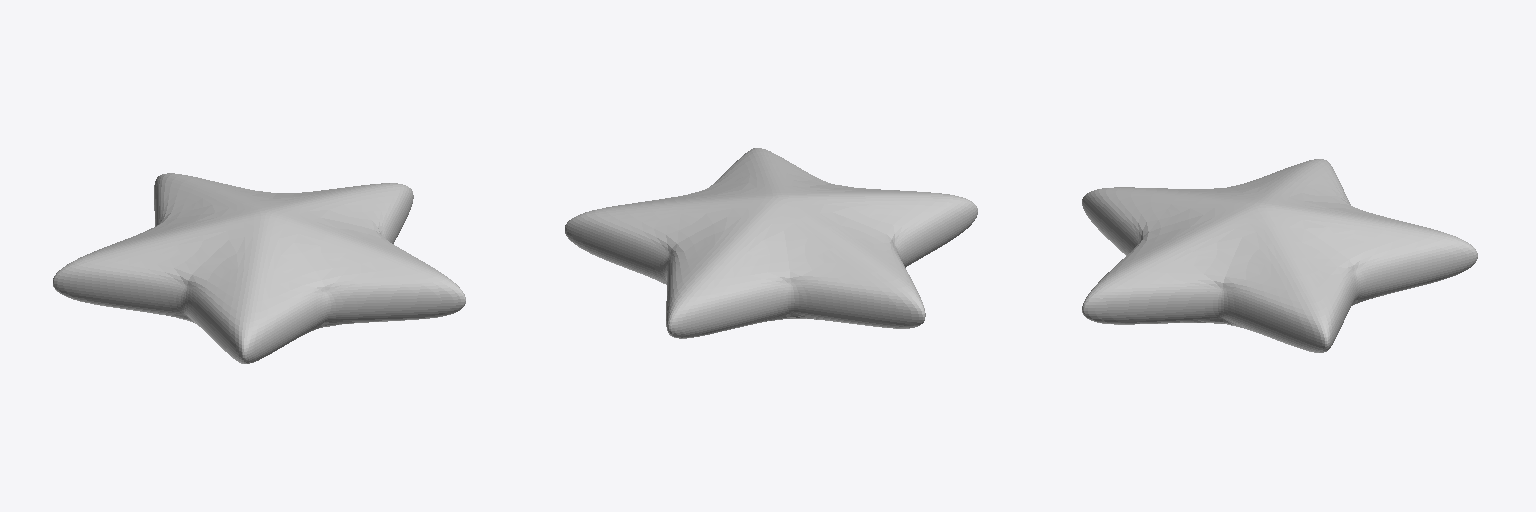
The model's file is starwork.obj.
3 views of the same model, side by side, from view 1: azimuth 30°, elevation 25°; view 2: azimuth 150°, elevation 25°; view 3: azimuth 270°, elevation 25° (orthographic).
Parts seen in each view (by area): view 1: Cylinder; view 2: Cylinder; view 3: Cylinder.
Part boxes in pixels (x1,y1,x2,y2): Cylinder: (53, 173, 465, 363); Cylinder: (565, 148, 977, 338); Cylinder: (1082, 159, 1477, 352).
Size of the model in its own units: 1.82 by 0.4919 by 1.74.